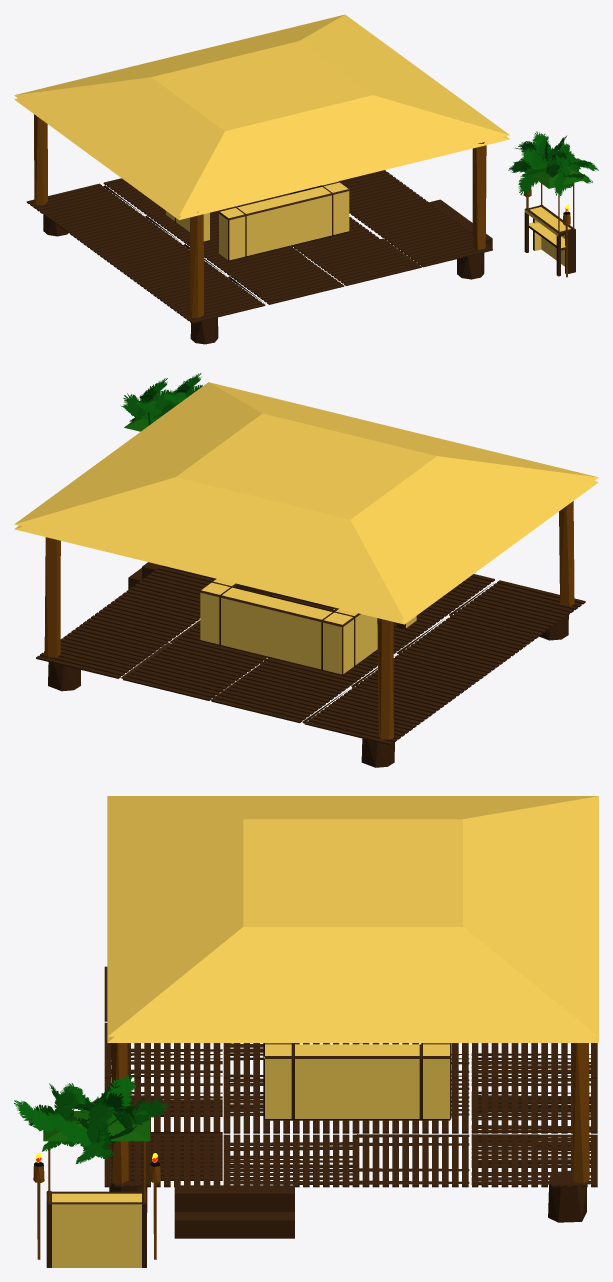
File: Tiki Bar.glb
3 views of the same model, one above another, from view 1: azimuth 30°, elevation 25°; view 2: azimuth 150°, elevation 25°; view 3: azimuth 270°, elevation 25° (orthographic). The views are drawn at different scales.
Visible parts, largest first — view 1: Top.001, Floor, Bar.001, Supports.001, Branches, Bar, Floor Supports, Stairs, Top; view 2: Top.001, Floor, Bar.001, Supports.001, Floor Supports, Branches; view 3: Top.001, Floor, Bar.001, Bar, Stairs, Branches, Supports.001, Floor Supports, Top.
Boxes of the visible parts, x1,y1,x2,y2 form: Top.001: (14,14,509,219); Floor: (26,170,492,323); Bar.001: (166,181,349,260); Supports.001: (34,114,486,318); Branches: (508,131,598,195); Bar: (524,205,575,276); Floor Supports: (43,215,484,344); Stairs: (429,199,492,252); Top: (513,161,588,188); Top.001: (14,382,598,624); Floor: (36,565,585,745); Bar.001: (200,579,416,675); Supports.001: (44,501,574,739); Floor Supports: (48,615,568,767); Branches: (120,373,202,425); Top.001: (107,796,598,1042); Floor: (104,966,597,1187); Bar.001: (263,1043,451,1120); Bar: (46,1191,146,1267); Stairs: (174,1185,294,1238); Branches: (14,1075,167,1163); Supports.001: (111,1043,589,1183); Floor Supports: (109,1170,586,1222); Top: (43,1111,150,1141).
Size of what is drawn, in the model's own units: 10.74 by 4.11 by 8.89.
